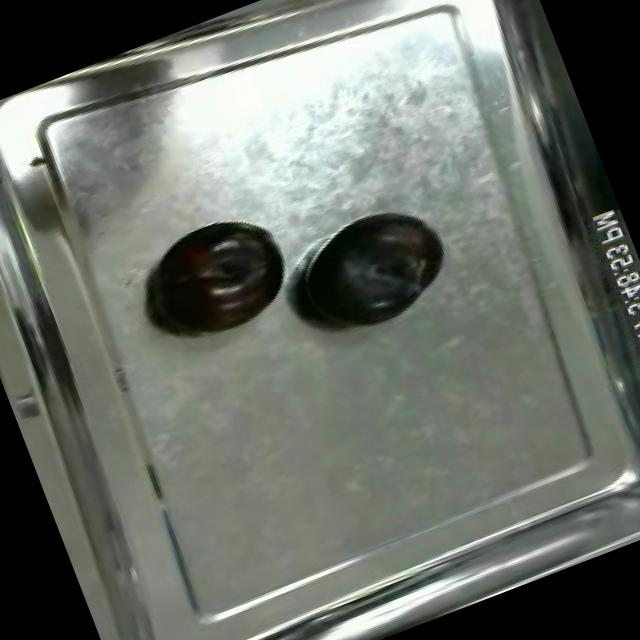Fruit: (276, 190, 468, 356), (130, 201, 307, 360)
